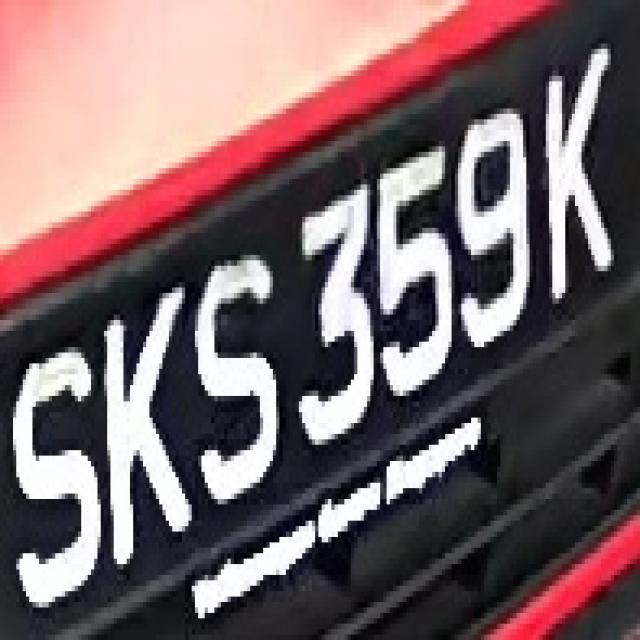3: (282, 190, 390, 456)
5: (371, 130, 462, 396)
9: (445, 119, 543, 342)
K: (91, 293, 192, 553), (536, 44, 624, 298)
S: (185, 255, 299, 521), (10, 347, 107, 602)
